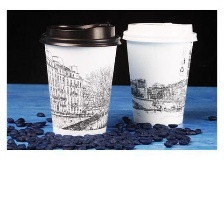paper_cup: (35, 16, 122, 138), (119, 19, 200, 128)
